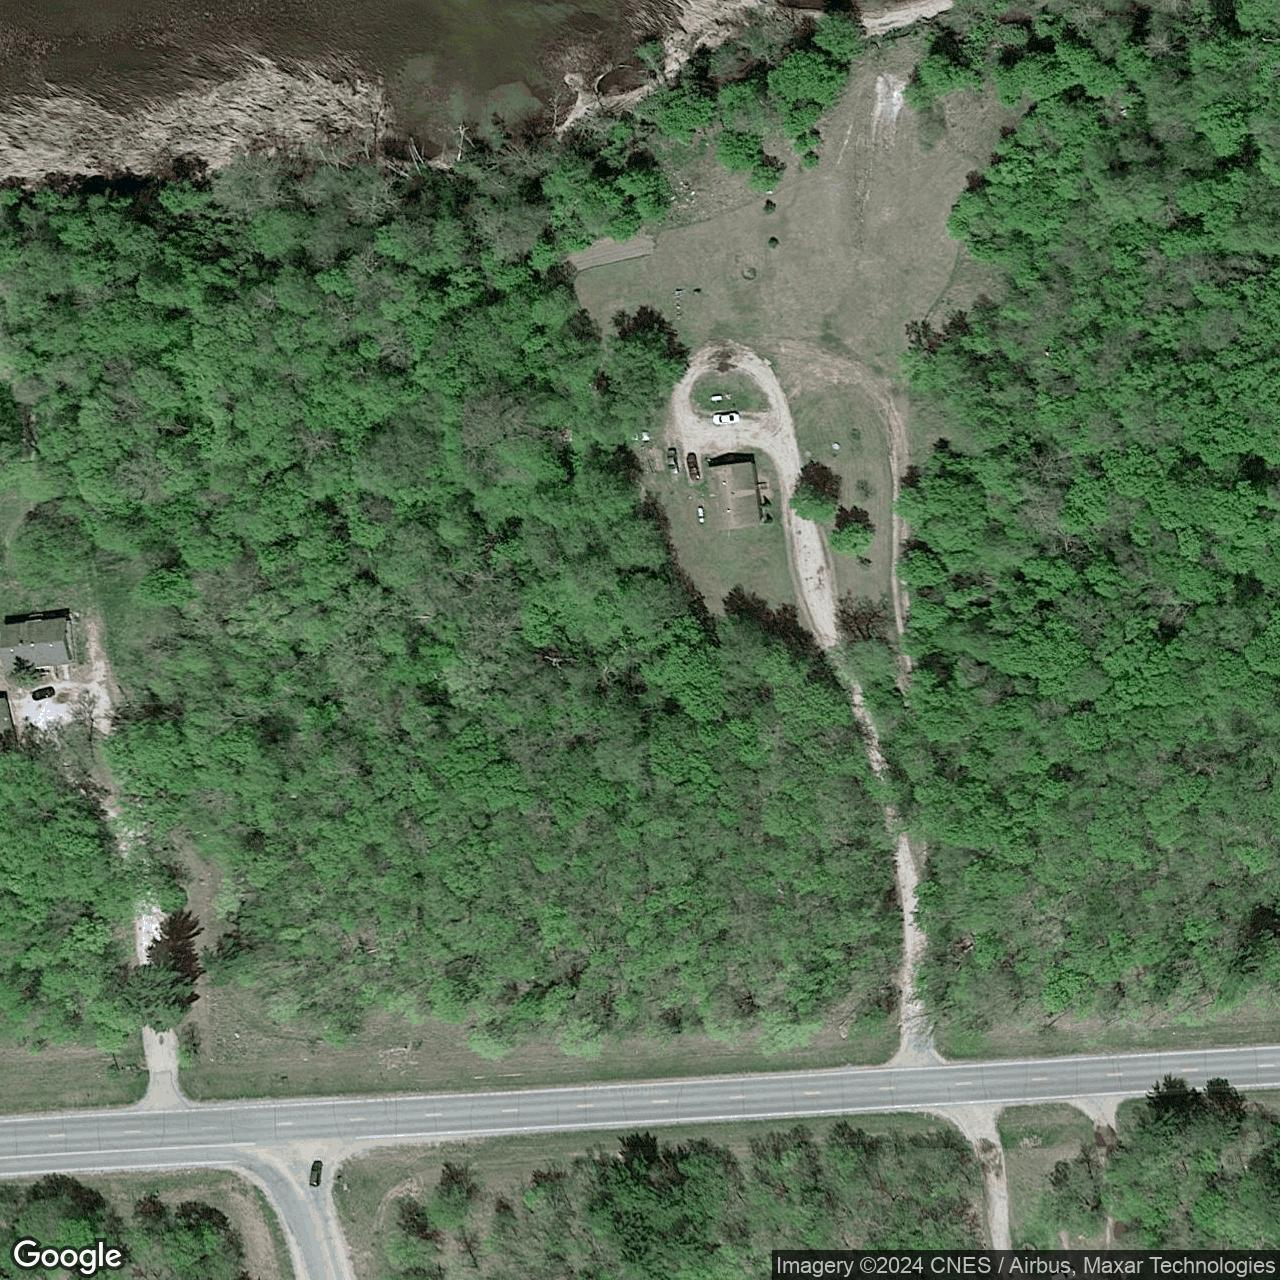House: (704, 463, 761, 531), (0, 619, 74, 668)
Propane: (709, 394, 723, 402)
